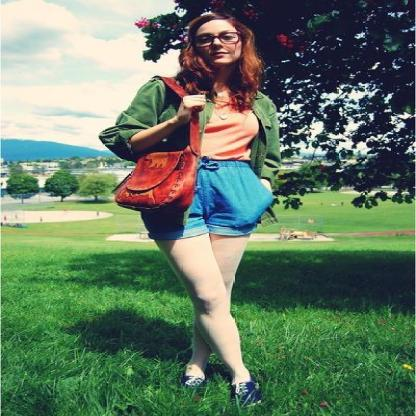bag: (113, 77, 220, 211)
jacket: (99, 76, 299, 187)
shirt: (201, 108, 270, 160)
shoe: (177, 376, 265, 405)
shorts: (140, 159, 288, 247)
